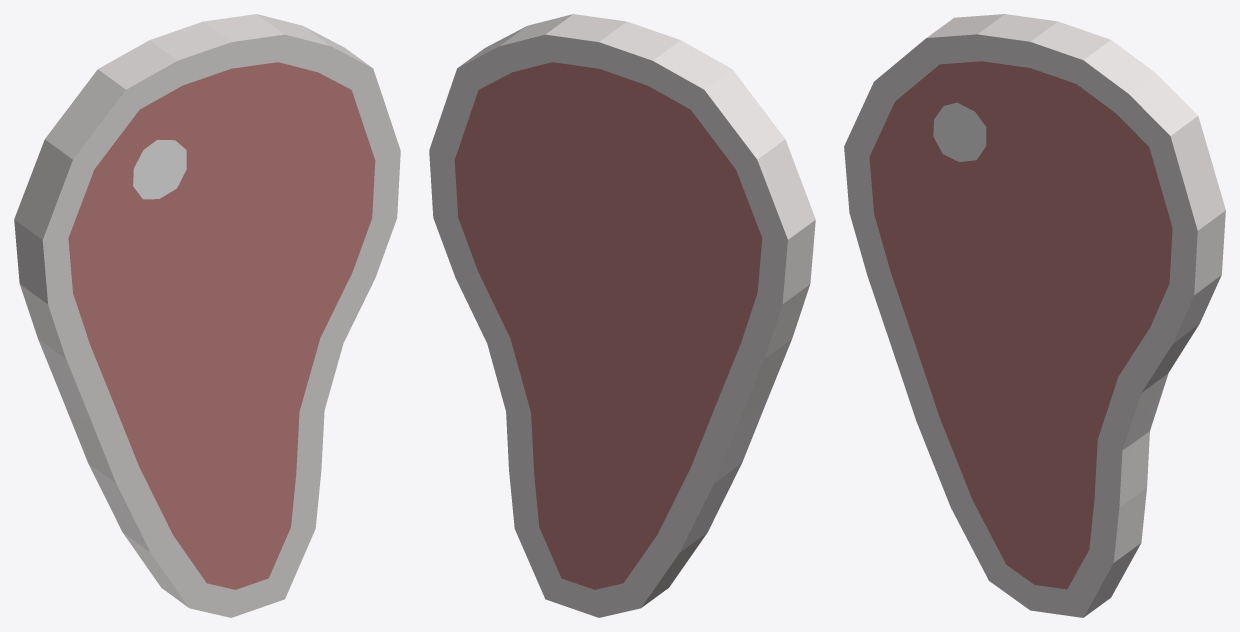
Rendered from CustomMeat.fbx.
3 renders of one model, left to right at view 1: azimuth 30°, elevation 25°; view 2: azimuth 150°, elevation 25°; view 3: azimuth 330°, elevation 25°, orthographic.
Parts seen in each view (by area): view 1: Cylinder; view 2: Cylinder; view 3: Cylinder.
Part boxes in pixels (x1,y1,x2,y2): Cylinder: (14, 14, 400, 617); Cylinder: (429, 14, 815, 617); Cylinder: (844, 14, 1225, 617).
Size of the model in its own units: 40.18 by 61.61 by 5.46.
